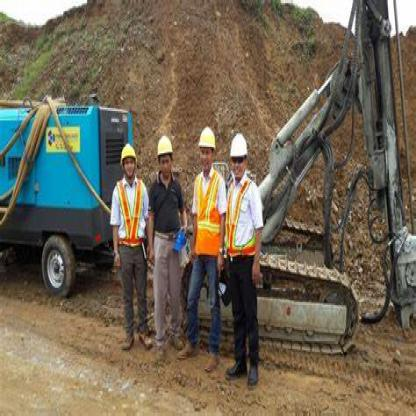person: (215, 117, 267, 388), (105, 124, 154, 355), (149, 124, 187, 354), (185, 115, 220, 364)
